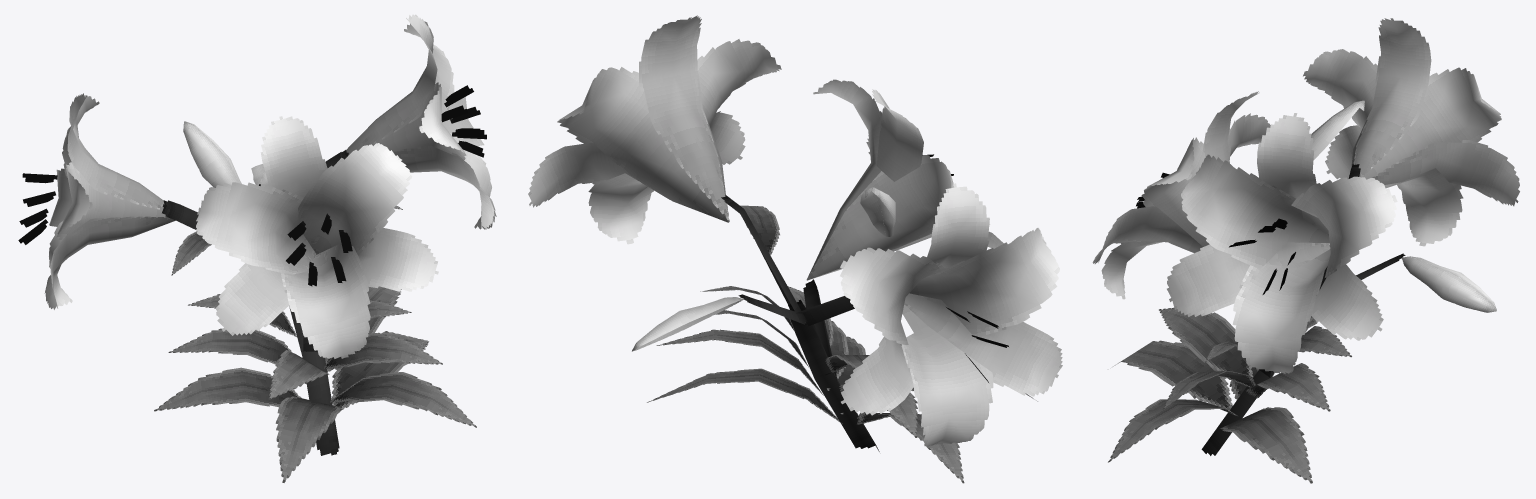
Rendered from flower-yuri.glb.
The picture shows the model from 3 angles, left to right: view 1: azimuth 30°, elevation 25°; view 2: azimuth 150°, elevation 25°; view 3: azimuth 270°, elevation 25°; orthographic projection. The views are drawn at different scales.
Size of the model in its own units: 9.48 by 7.92 by 7.59.
2 materials, 2 textured.
